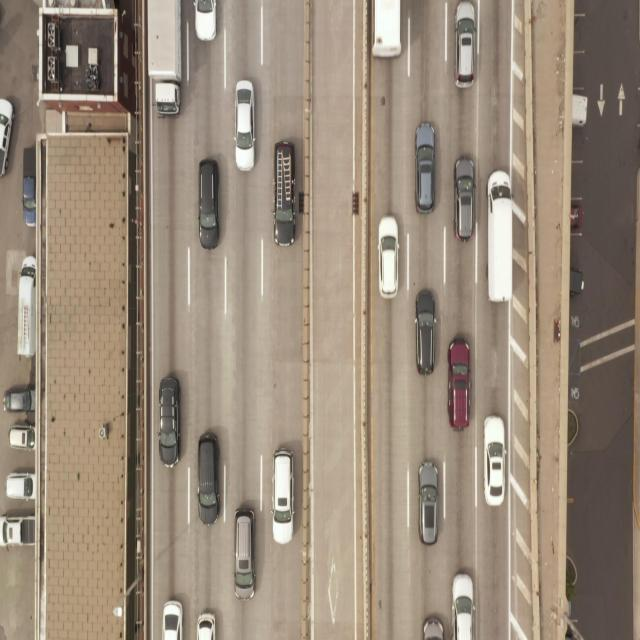Car: (479, 403, 514, 512), (446, 319, 479, 431), (265, 442, 299, 546), (412, 447, 444, 547), (451, 0, 483, 99), (412, 278, 442, 380), (193, 156, 224, 254), (232, 70, 258, 186), (409, 121, 440, 216), (156, 362, 183, 469), (196, 418, 223, 524), (376, 212, 406, 305), (452, 149, 476, 245), (232, 506, 258, 589), (0, 94, 21, 188), (450, 571, 478, 640), (22, 144, 42, 235), (193, 0, 221, 64), (155, 587, 183, 640), (0, 381, 39, 419), (0, 468, 37, 507), (1, 514, 36, 554), (194, 585, 218, 640), (8, 422, 34, 458)
Truck: (485, 141, 518, 308), (149, 0, 187, 137), (262, 121, 300, 247), (367, 0, 405, 85), (15, 252, 40, 369)
